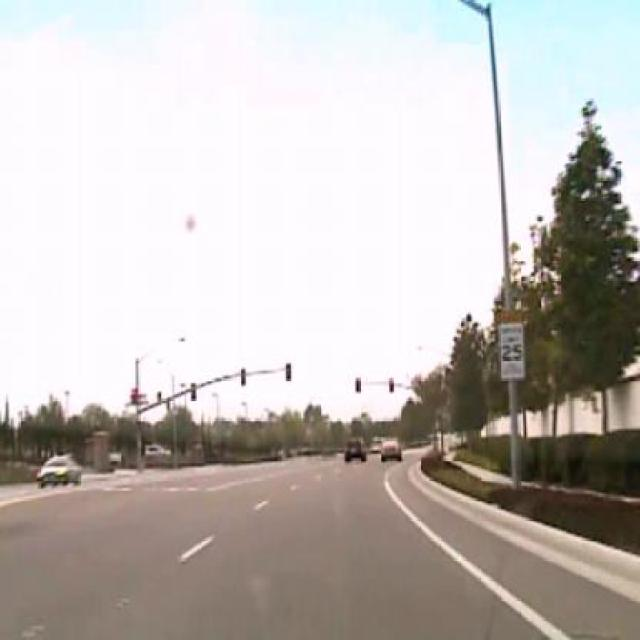schoolSpeedLimit25: (497, 309, 526, 380)
